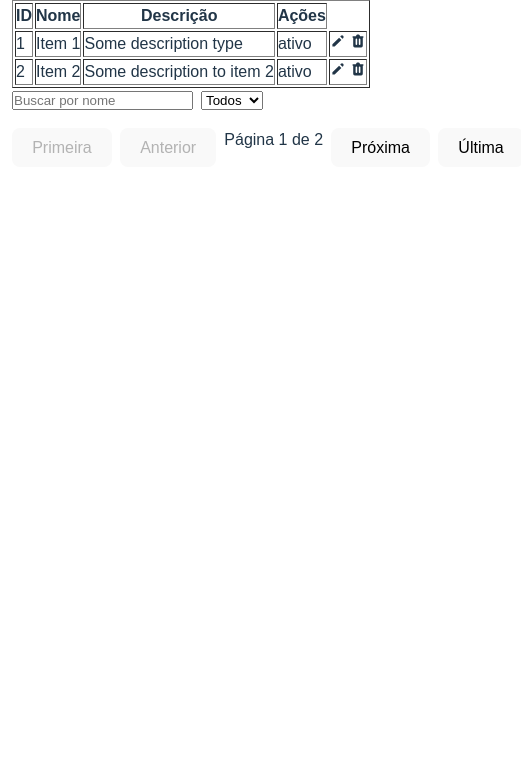
Test: ListCategoriesPage › should handle delete category with success state
The width and height of the screenshot is (521, 768).
// Clica no primeiro ícone de lixeira
Click the 1st icon with test id "trash-icon".
click(358, 41)  # box [350,33,366,49]
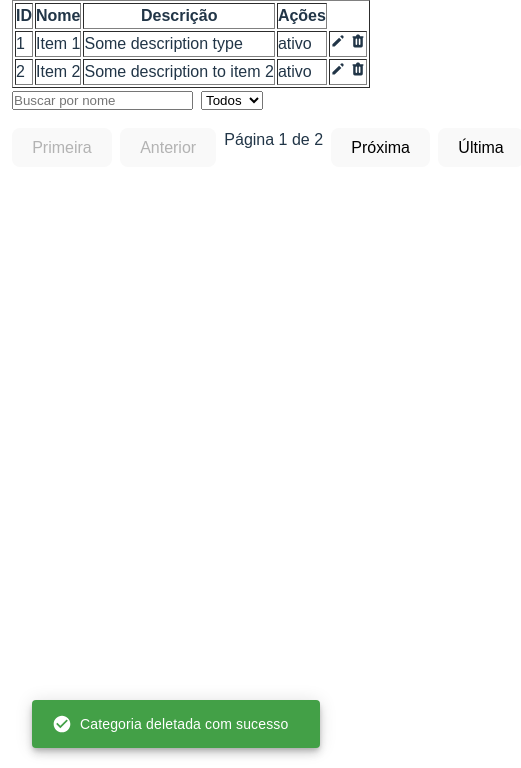
Expected: the text "Categoria deletada com sucesso" is shown, [52,714,288,734]
